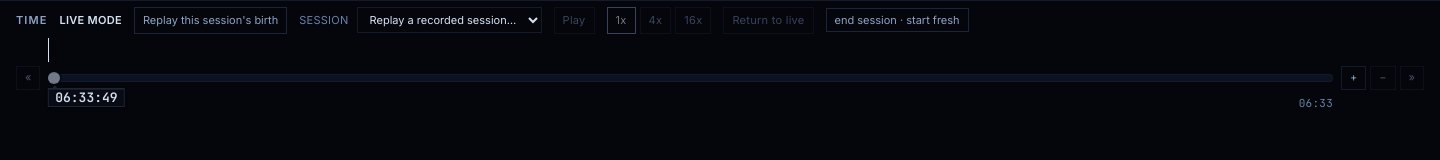
Test: ReplayControls › shows the real duration once a session is loaded, not 0:00 / 0:00
This screenshot has width=1440, height=160.
Select "1970-01-01T00:00:01.000Z" in the dropdown labelled "session" at point(449, 20), box [357, 7, 542, 33]
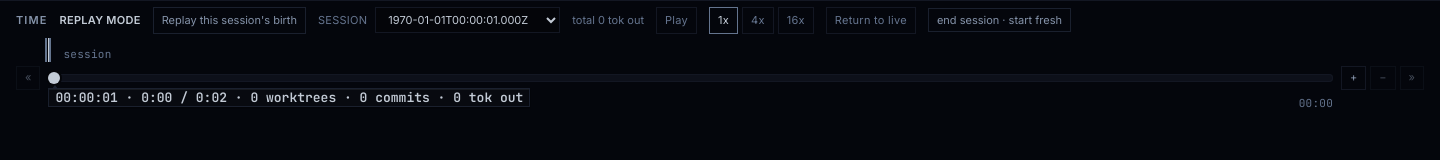
Result: the text "Replay mode" is shown at [60, 12, 141, 28]
Result: the text with test id "scrubber-readout" shows "/ 0:02" at [55, 88, 523, 106]
